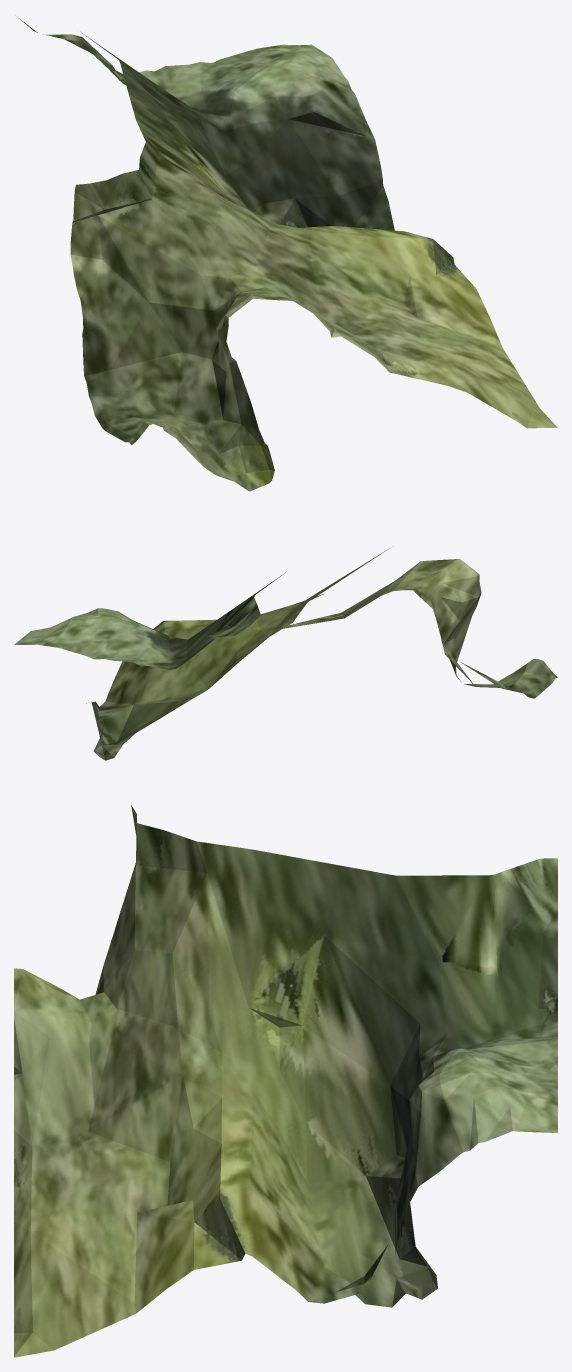
3 renders of one model, top to bottom at view 1: azimuth 30°, elevation 25°; view 2: azimuth 150°, elevation 25°; view 3: azimuth 270°, elevation 25°, orthographic. The views are drawn at different scales.
Size of the model in its own units: 2.95 by 2.03 by 2.95.
3 materials, 3 textured.
